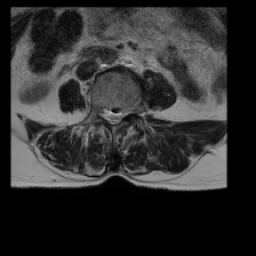CCS_stenosis: (111, 104, 116, 130)
LFS_normal: (123, 99, 130, 121)
LLS_normal: (116, 103, 123, 128)
RFS_normal: (97, 100, 104, 123)
RLS_normal: (104, 101, 111, 129)
